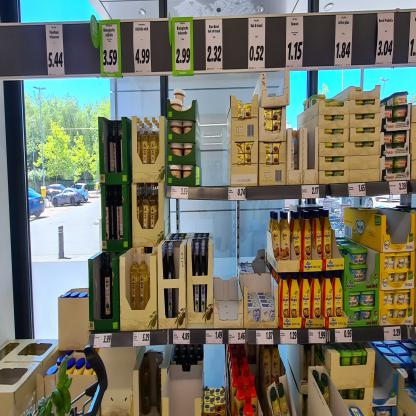prtg: (46, 25, 66, 76), (335, 15, 354, 67), (376, 14, 395, 65), (134, 23, 152, 74), (287, 17, 305, 68), (249, 18, 266, 70), (207, 20, 224, 71), (103, 25, 120, 74), (176, 22, 192, 72), (409, 12, 416, 65), (94, 334, 113, 349), (385, 327, 403, 342), (303, 186, 321, 200), (349, 184, 367, 198), (257, 331, 275, 345), (309, 331, 327, 345), (134, 333, 151, 347), (174, 331, 191, 345), (207, 331, 224, 345), (230, 331, 247, 345), (281, 331, 298, 345), (336, 330, 353, 344), (390, 182, 408, 195), (172, 188, 189, 201), (230, 188, 247, 201)
